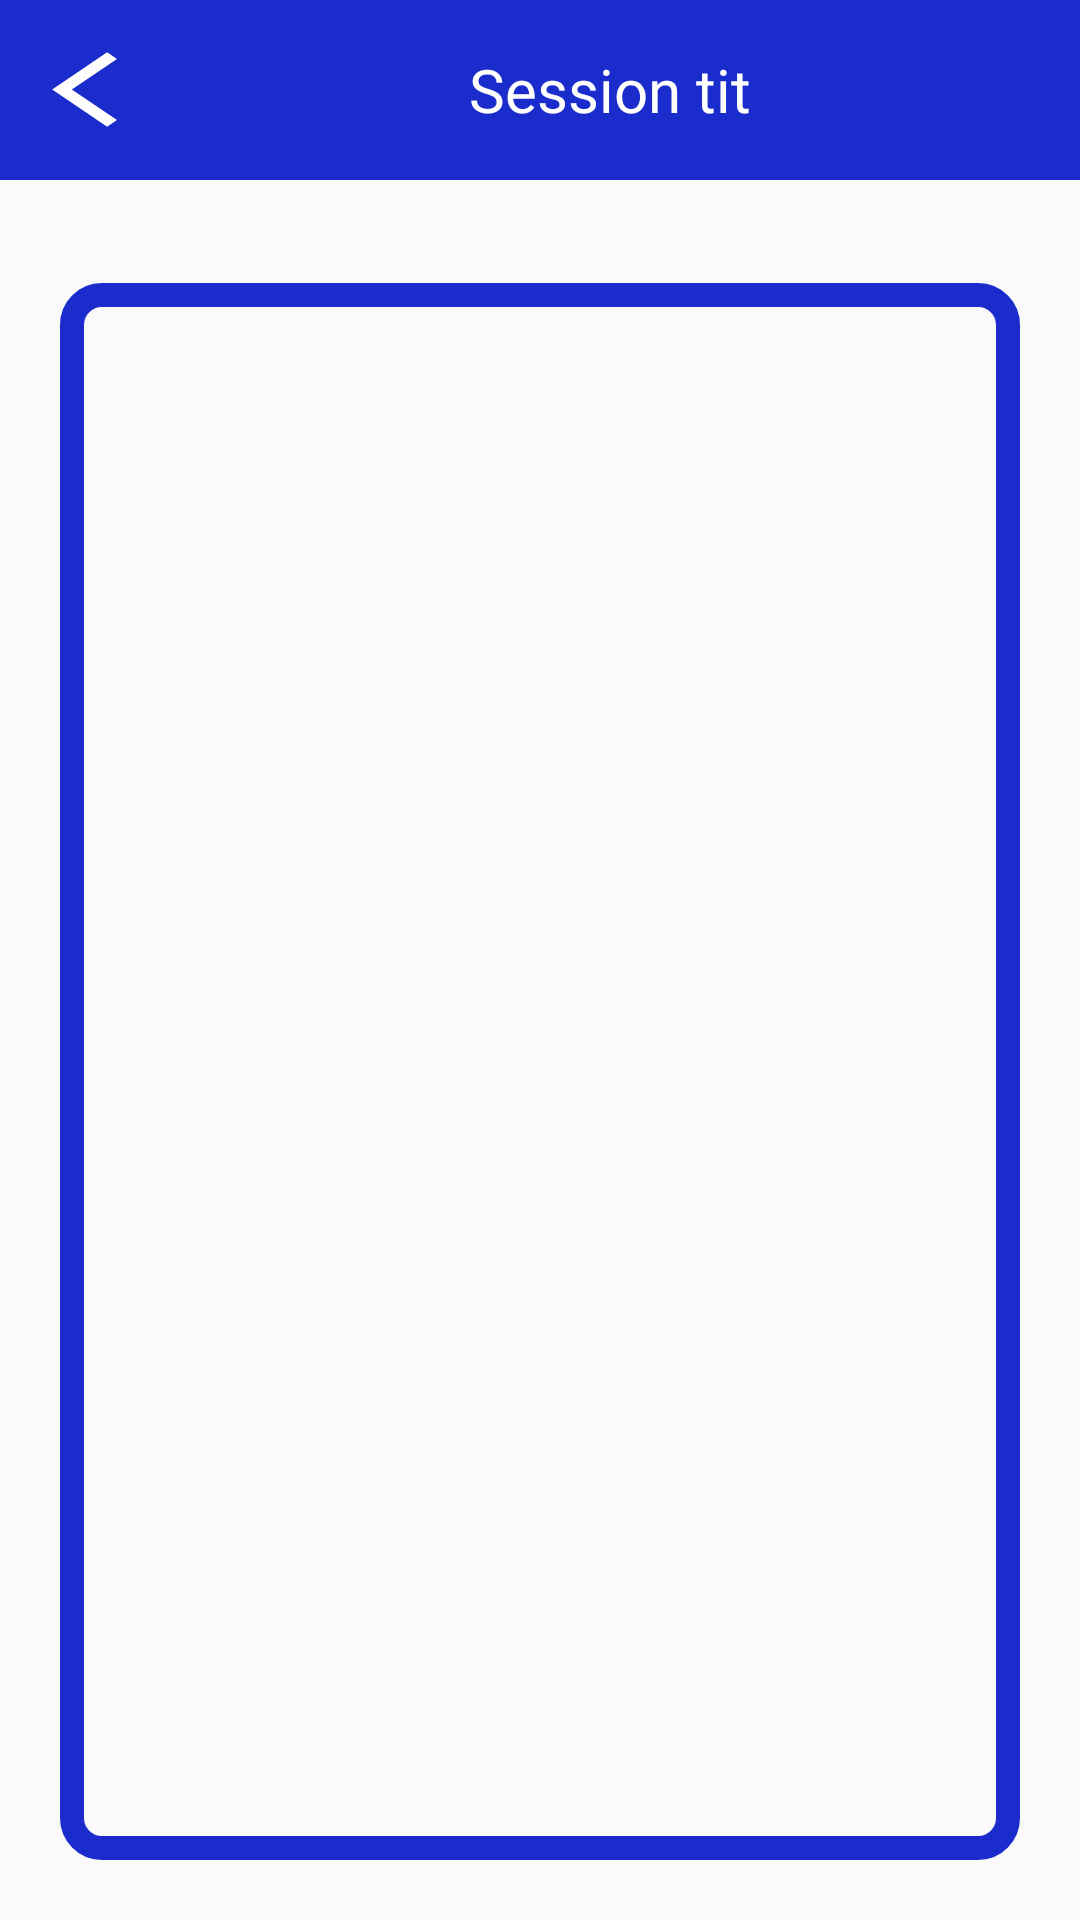

Icon bounding boxes for this 1080 x 1920 phone screenshot, format box(x1, y1, x2, y2):
back: box(52, 52, 117, 127)
